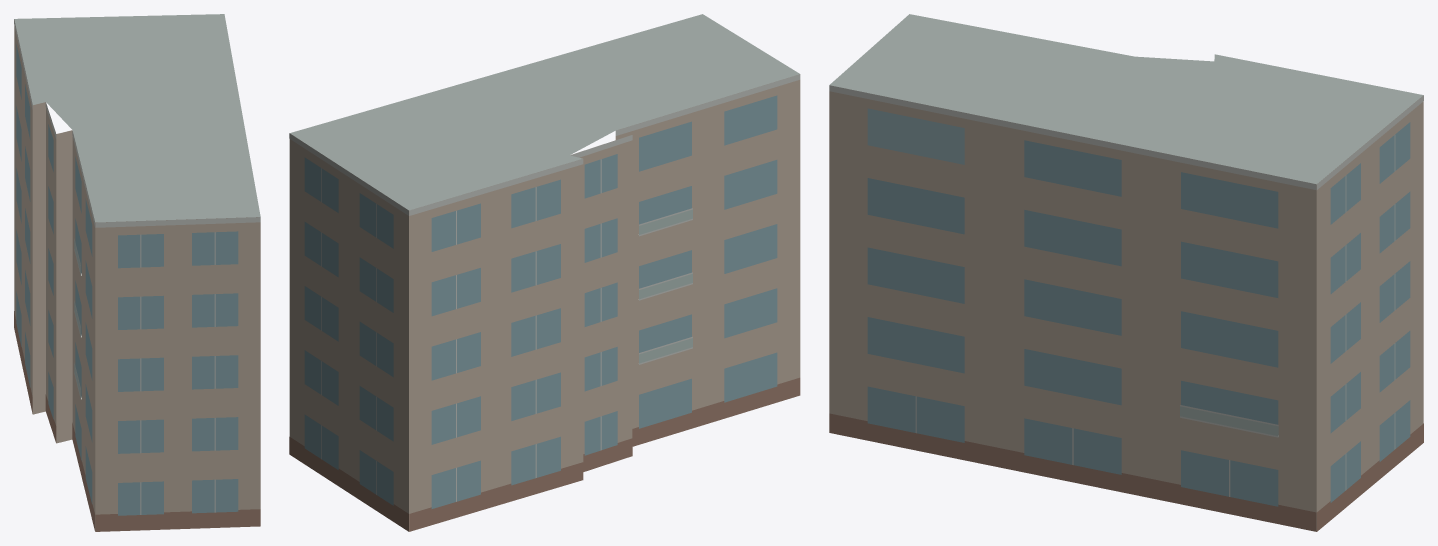
File: survey-upis-33002623.glb
3 views of the same model, side by side, from view 1: azimuth 30°, elevation 25°; view 2: azimuth 150°, elevation 25°; view 3: azimuth 270°, elevation 25° (orthographic). The views are drawn at different scales.
Visible parts, largest first — view 1: survey-upis-33002623.tmp; view 2: survey-upis-33002623.tmp; view 3: survey-upis-33002623.tmp.
Boxes of the visible parts, left/top/right/bottom form: survey-upis-33002623.tmp: left=14, top=14, right=260, bottom=531; survey-upis-33002623.tmp: left=289, top=14, right=800, bottom=531; survey-upis-33002623.tmp: left=829, top=14, right=1423, bottom=531.
Bounding box in the file's own units: 14.82 × 14.1 × 21.86.
